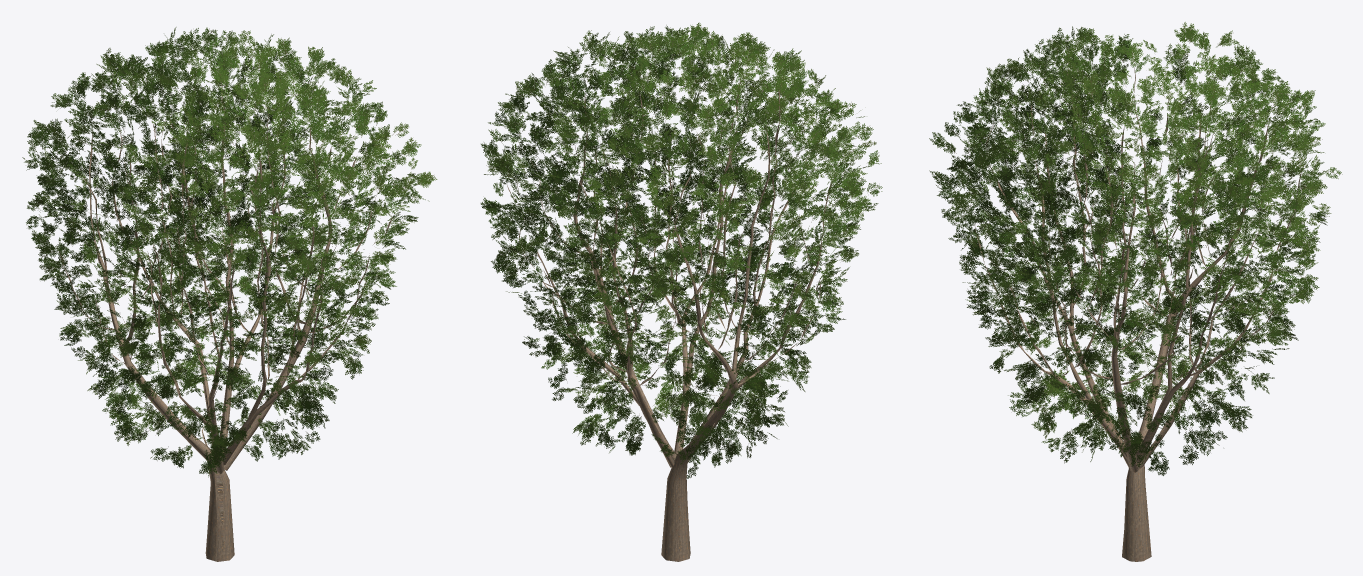
The model's file is sando_keyaki.glb.
The picture shows the model from 3 angles, left to right: view 1: azimuth 30°, elevation 25°; view 2: azimuth 150°, elevation 25°; view 3: azimuth 270°, elevation 25°; orthographic projection.
Visible parts, largest first — view 1: keyaki_leaves, keyaki_bark; view 2: keyaki_leaves, keyaki_bark; view 3: keyaki_leaves, keyaki_bark.
Boxes of the visible parts, left/top/right/bottom form: keyaki_leaves: left=22, top=27, right=437, bottom=477; keyaki_bark: left=57, top=82, right=392, bottom=561; keyaki_leaves: left=480, top=22, right=882, bottom=478; keyaki_bark: left=506, top=79, right=837, bottom=561; keyaki_leaves: left=929, top=22, right=1342, bottom=475; keyaki_bark: left=966, top=67, right=1301, bottom=561.
Size of the model in its own units: 13.81 by 18.55 by 13.75.
2 materials, 2 textured.
